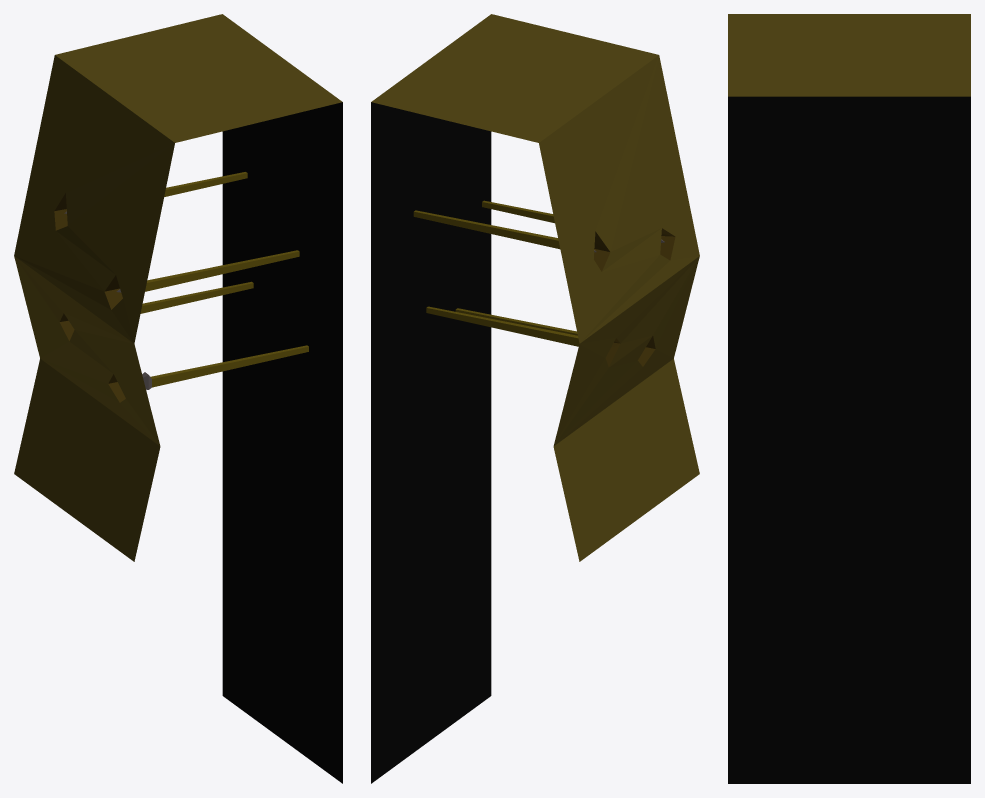
The model's file is gfx_62.obj.
3 views of the same model, side by side, from view 1: azimuth 30°, elevation 25°; view 2: azimuth 150°, elevation 25°; view 3: azimuth 270°, elevation 25° (orthographic).
Size of the model in its own units: 1 by 3.12 by 1.
